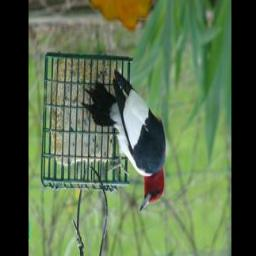Woodpecker: (80, 71, 165, 213)
